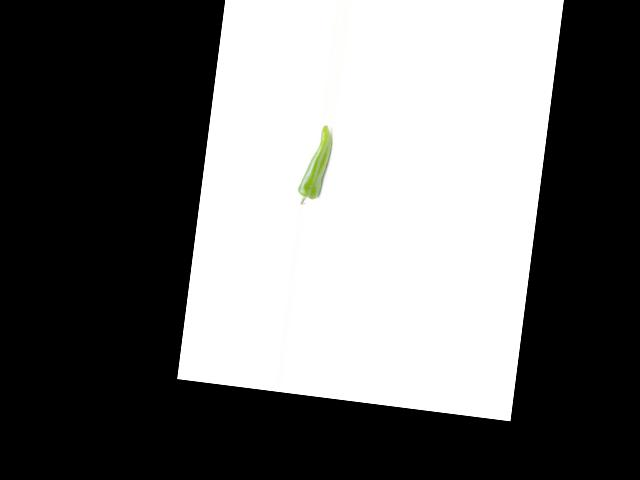bell_pepper: (294, 122, 336, 211)
